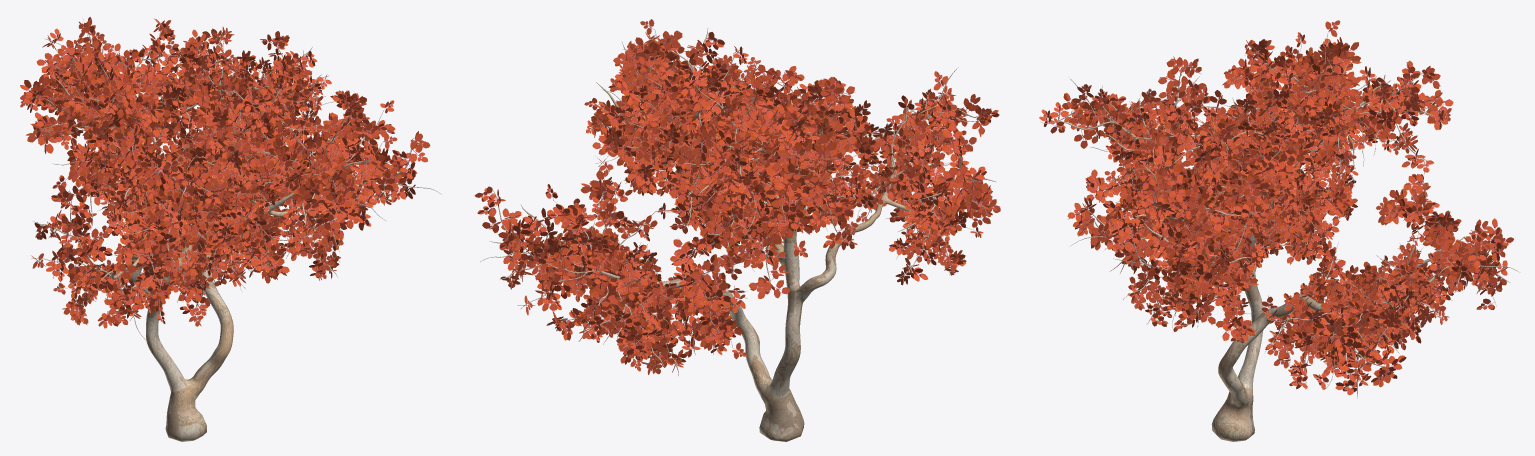
Rendered from Tree_1_3_Red.fbx.
3 views of the same model, side by side, from view 1: azimuth 30°, elevation 25°; view 2: azimuth 150°, elevation 25°; view 3: azimuth 270°, elevation 25° (orthographic). The views are drawn at different scales.
Parts seen in each view (by area): view 1: Tree_1_3_Red_LOD0; view 2: Tree_1_3_Red_LOD0; view 3: Tree_1_3_Red_LOD0.
Boxes of the visible parts, bbox=[...] form: Tree_1_3_Red_LOD0: bbox=[20, 17, 441, 441]; Tree_1_3_Red_LOD0: bbox=[474, 19, 1000, 441]; Tree_1_3_Red_LOD0: bbox=[1039, 20, 1520, 441].
Size of what is drawn, in the model's own units: 1080 by 1023 by 1166.
